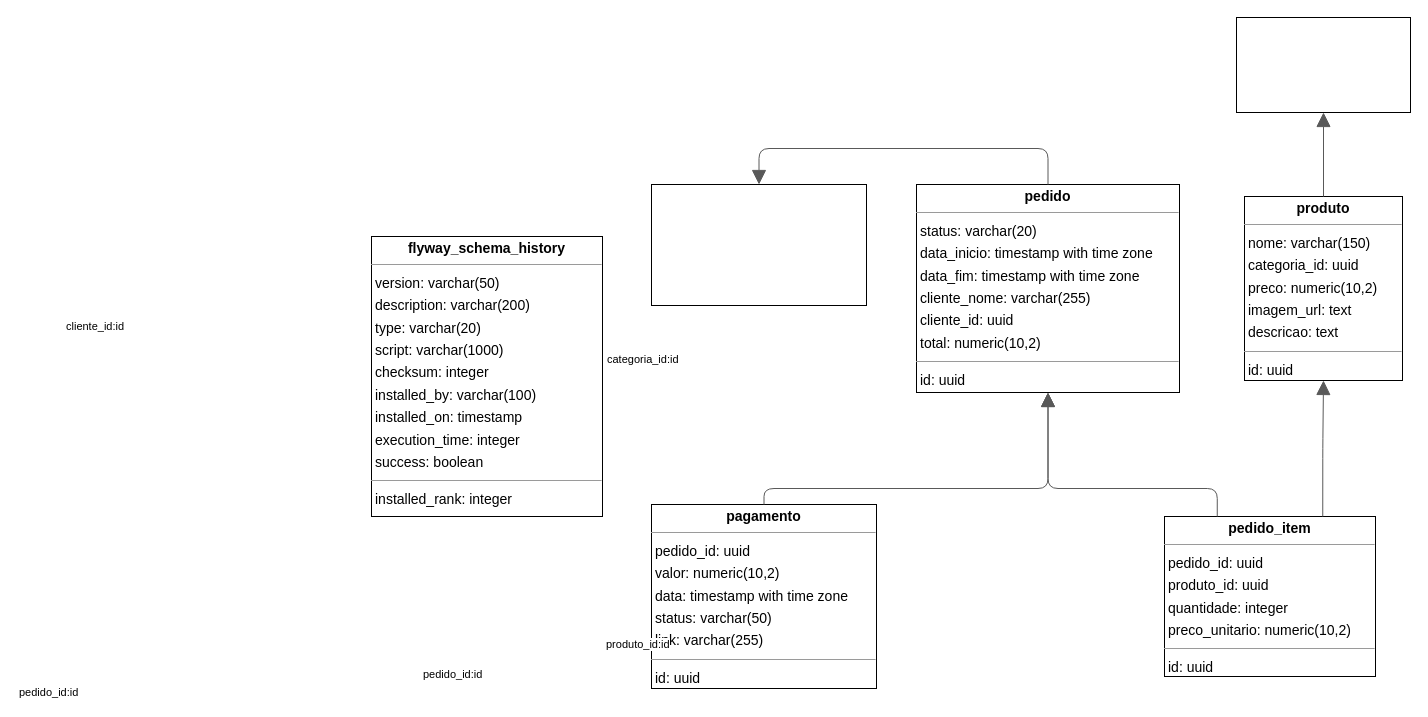
Some shapes in this 1428 by 717 pixel diagram are drawn without their labels. The shapes that lost their labels are listed below. From the top down, each one's centre as x and y in pixels, then its label:
point 1323,64: categoria descricao: varchar(150) id: uuid
point 758,245: cliente nome_completo: varchar(255) email: varchar(255) id: uuid
